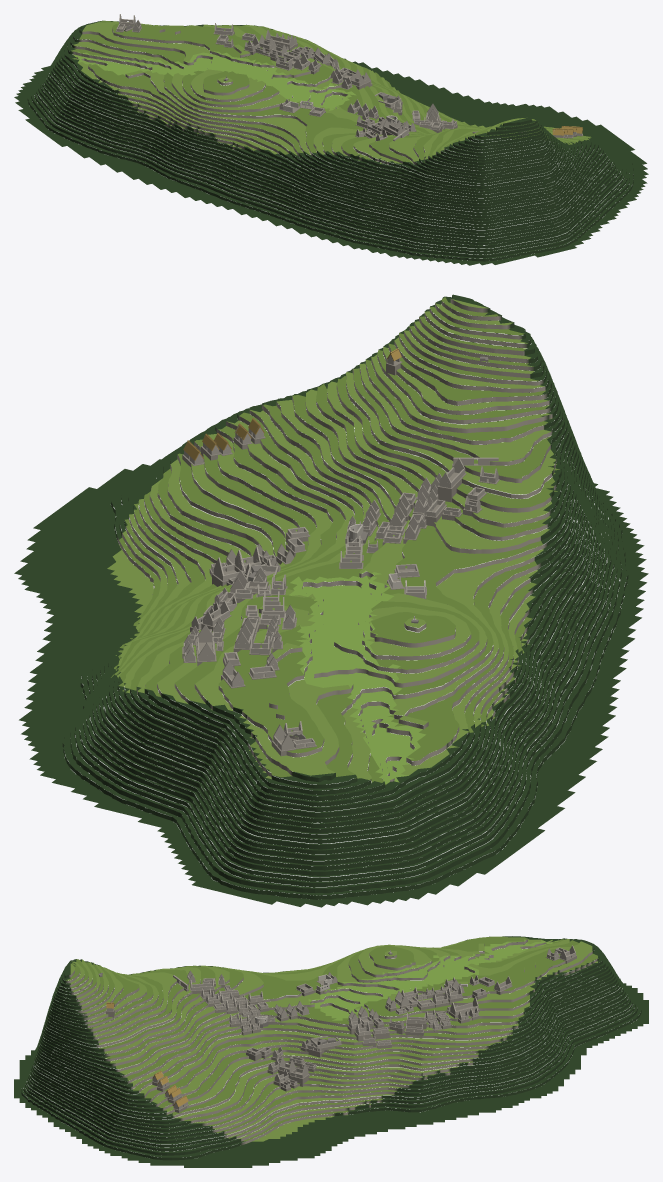
The model's file is machu-picchu-ruin.glb.
The picture shows the model from 3 angles, top to bottom: view 1: azimuth 30°, elevation 25°; view 2: azimuth 150°, elevation 25°; view 3: azimuth 270°, elevation 25°; orthographic projection. The views are drawn at different scales.
Visible parts, largest first — view 1: mp-terraces, mp-terrace-walls, mp-wall, mp-plat; view 2: mp-terraces, mp-terrace-walls, mp-wall, mp-plat, mp-thatch; view 3: mp-terraces, mp-terrace-walls, mp-wall, mp-plat, mp-thatch.
Boxes of the visible parts, x1,y1,x2,y2 form: mp-terraces: (14, 20, 648, 265); mp-terrace-walls: (27, 25, 633, 261); mp-wall: (116, 14, 581, 141); mp-plat: (115, 22, 582, 141); mp-terraces: (14, 294, 648, 907); mp-terrace-walls: (62, 296, 628, 899); mp-wall: (183, 355, 498, 750); mp-plat: (182, 361, 499, 756); mp-thatch: (183, 348, 401, 460); mp-terraces: (14, 936, 648, 1167); mp-terrace-walls: (21, 939, 641, 1160); mp-wall: (107, 945, 575, 1109); mp-plat: (106, 950, 576, 1112); mp-thatch: (106, 1002, 188, 1107).
Size of the model in its own units: 86.01 by 22.03 by 112.
